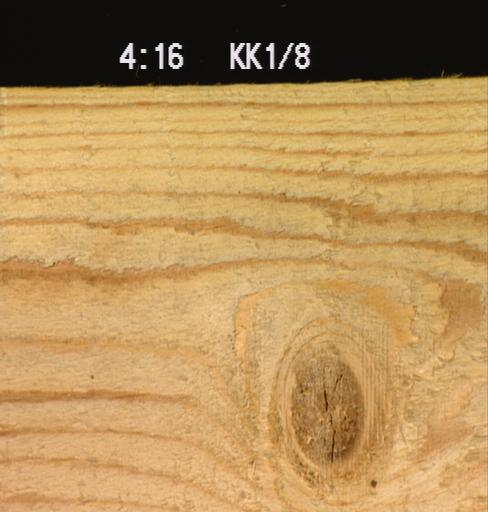small_knot: (366, 472, 382, 491)
sound_knot: (279, 347, 371, 471)
